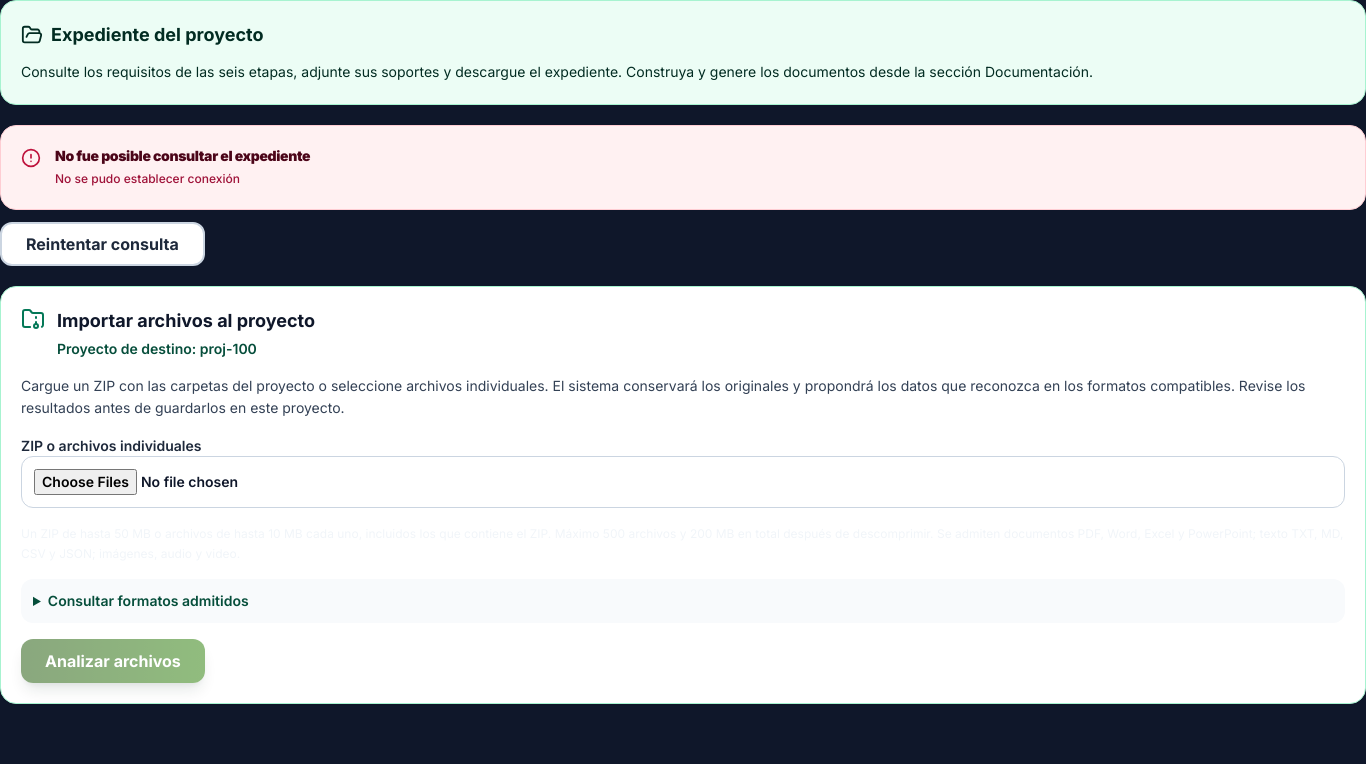
Test: Ergonomía, salvaguardas y accesibilidad del expediente documental (M3) › ProjectEvidenceFile y ProjectEvidenceStage › muestra ErrorBanner ante fallo de consulta de expediente y permite reintentar con botón
Expected: the message shows "No se pudo establecer conexión", 55,171 -> 240,186
Expected: the heading "No fue posible consultar el expediente" is shown, 55,146 -> 310,165
Click the button "Reintentar consulta": (102, 244) 0,222 -> 205,266
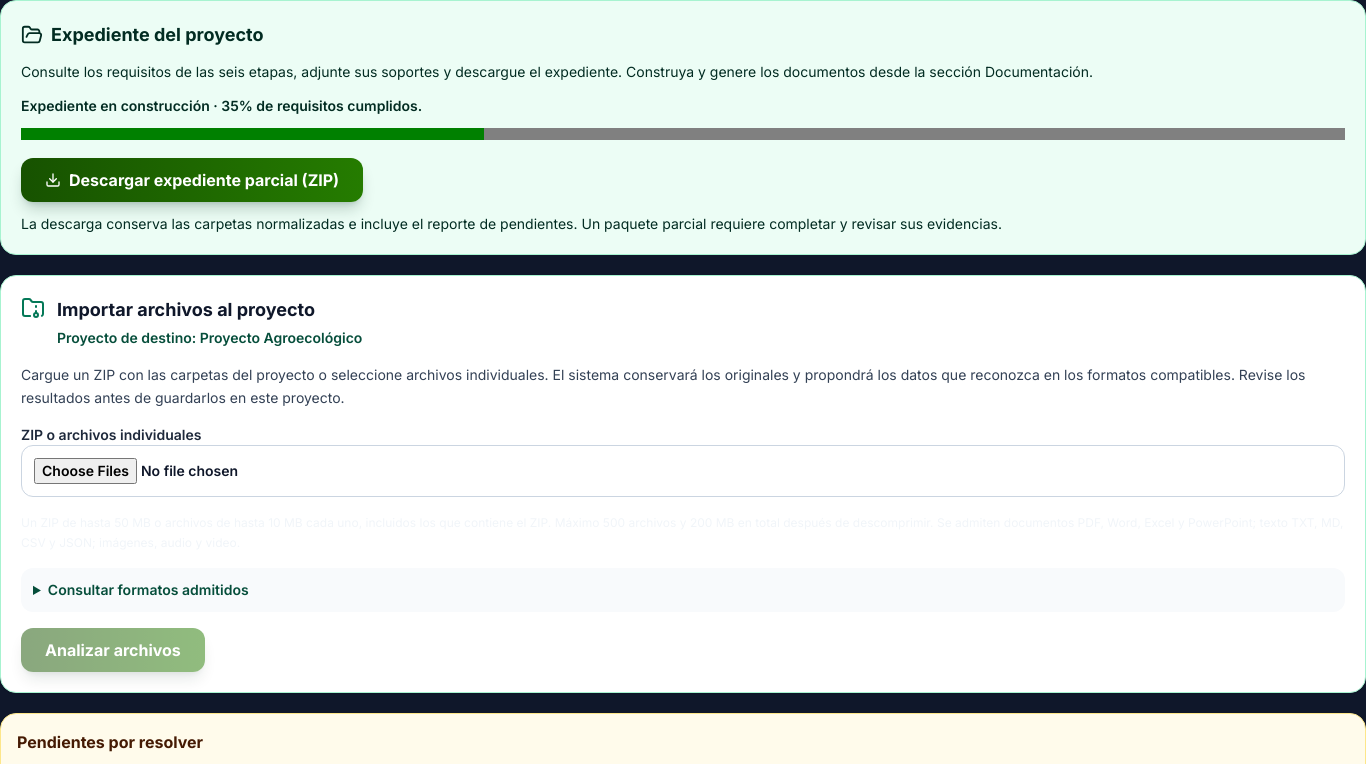
Now the text "Expediente en construcción · 35% de requisitos cumplidos." is shown, box 21,97 -> 422,114
Now the text "No se pudo establecer conexión" is gone
